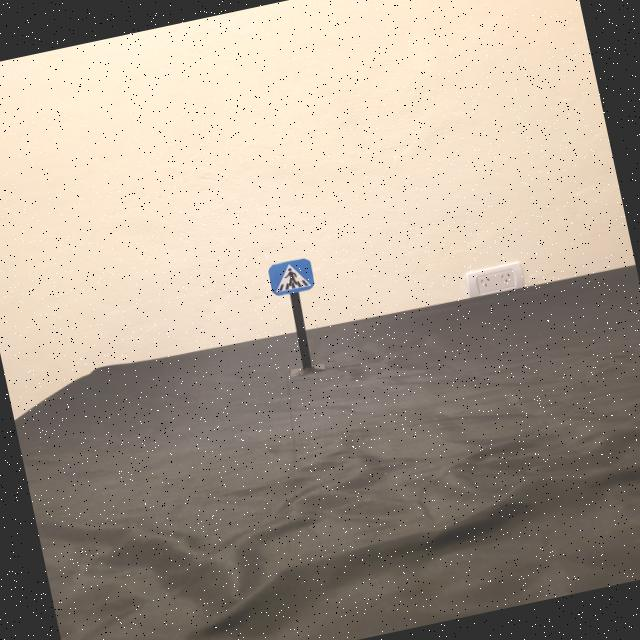crosswalk: (267, 256, 316, 296)
